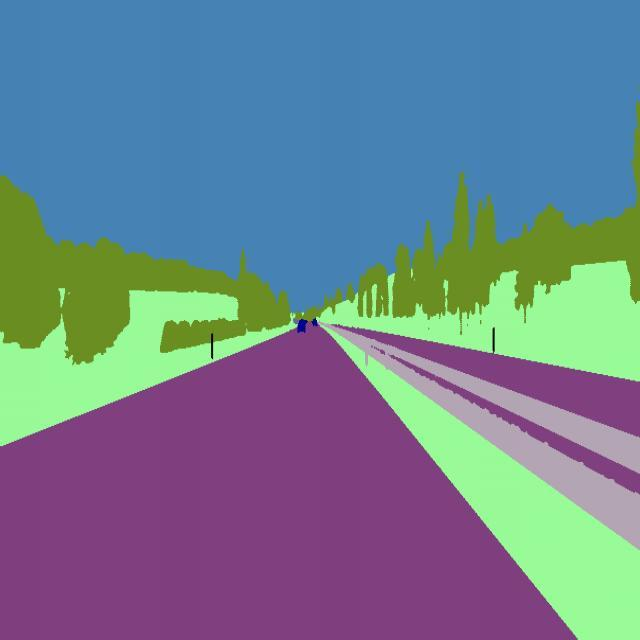safe: (294, 318, 308, 338), (308, 314, 322, 332)
